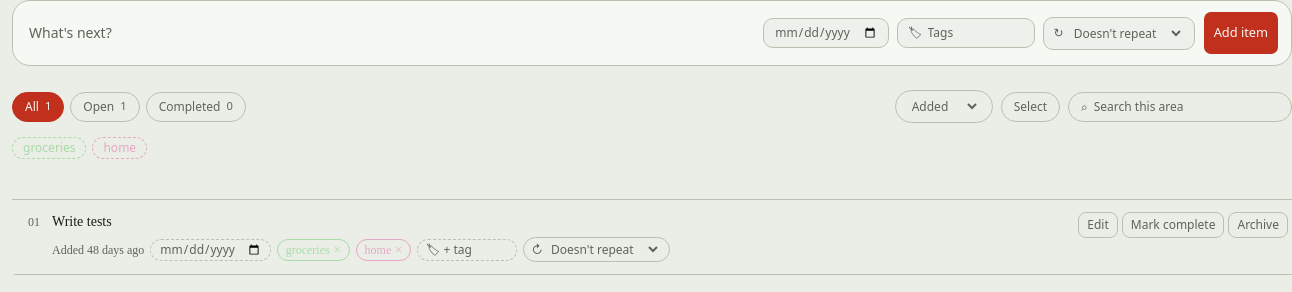
TaskWorkspace › removes a single tag by clicking its × without touching the others
Click the button named "Remove tag groceries": [337, 250] box [334, 242, 341, 258]
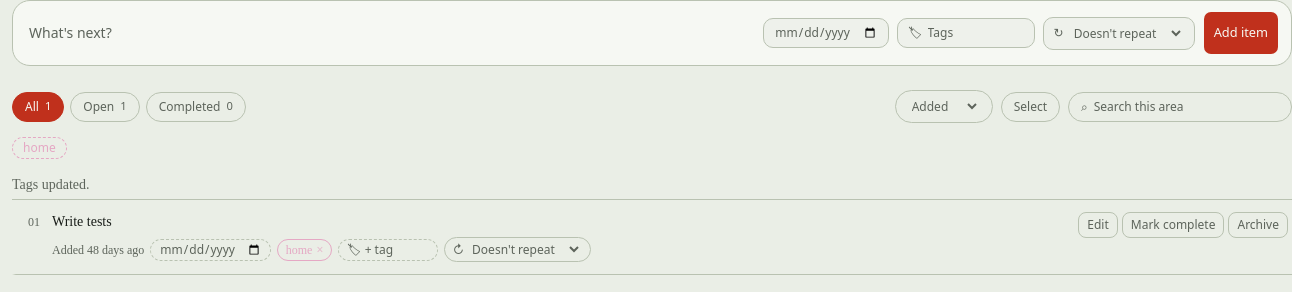
Expected: the text "home" is shown, [286, 243, 312, 257]
Now the button "groceries" is gone
